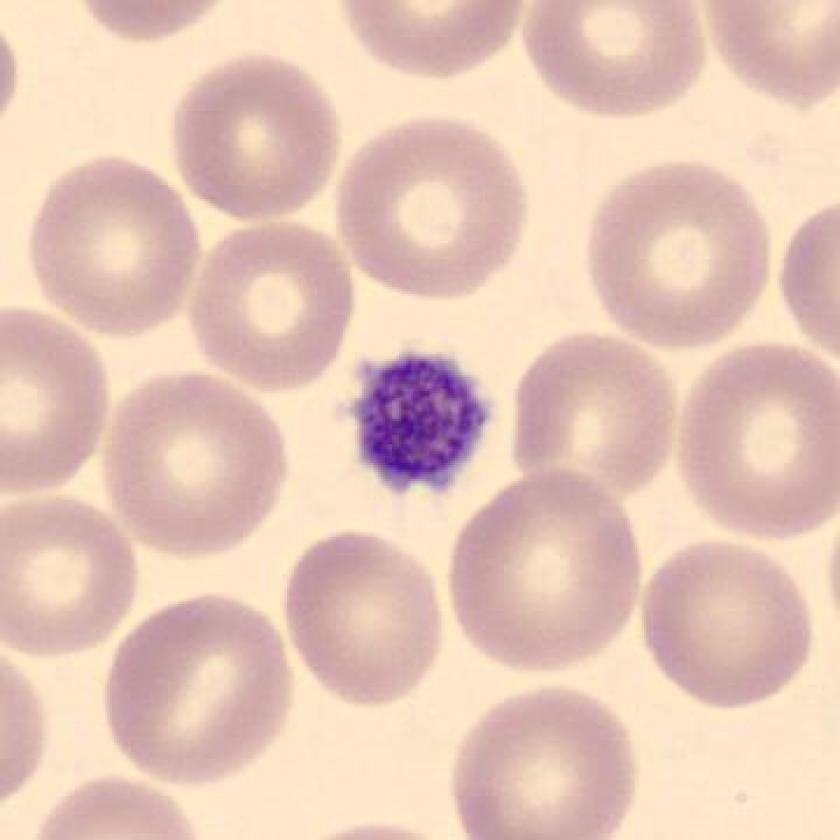platelets: (342, 339, 507, 503)
